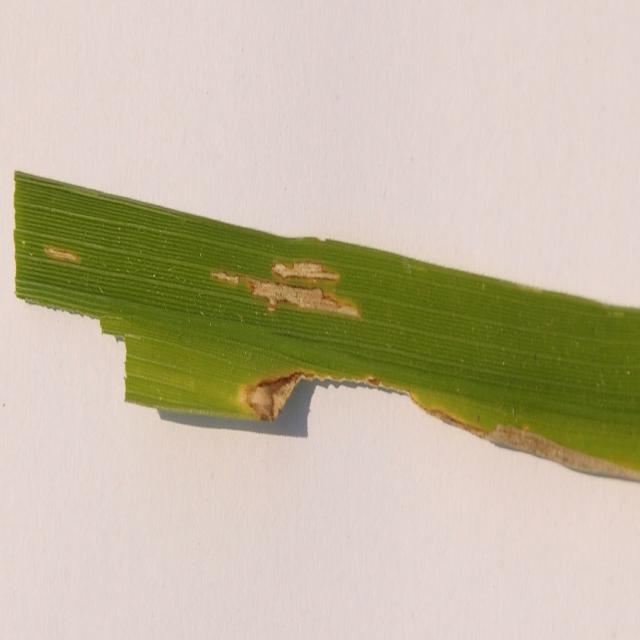leaf blight: (436, 398, 640, 488), (201, 249, 364, 324), (233, 364, 338, 422), (38, 227, 86, 279)
